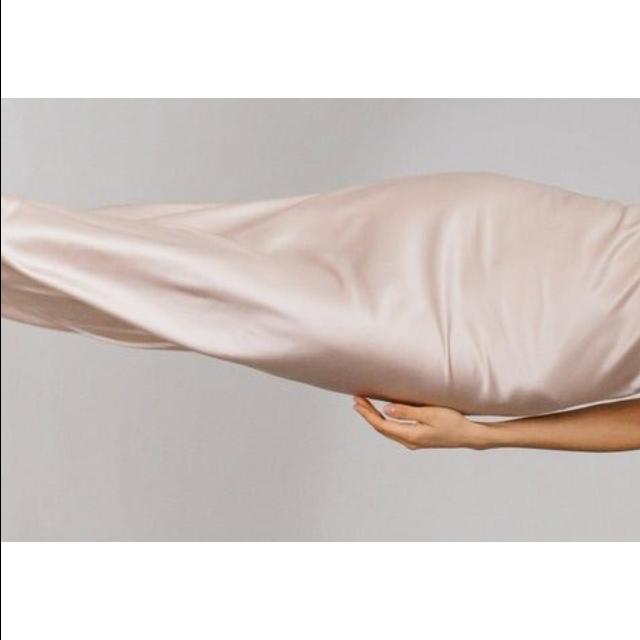silk: (0, 154, 640, 410)
